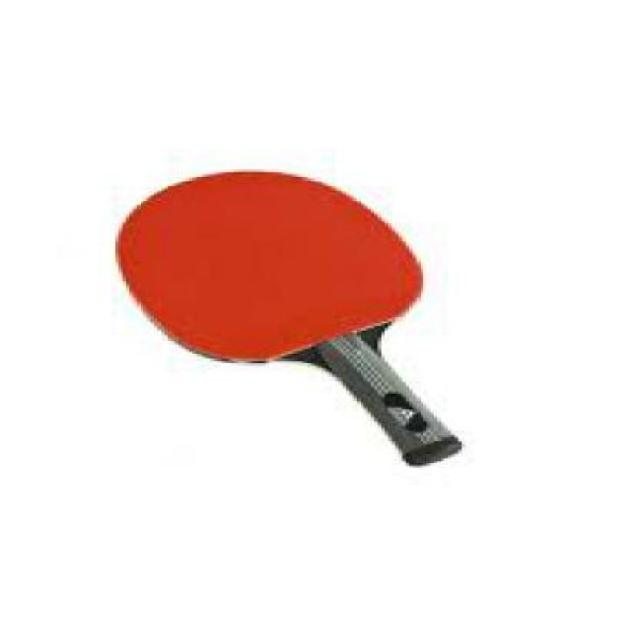table_tennis_racket: (99, 166, 428, 369)
